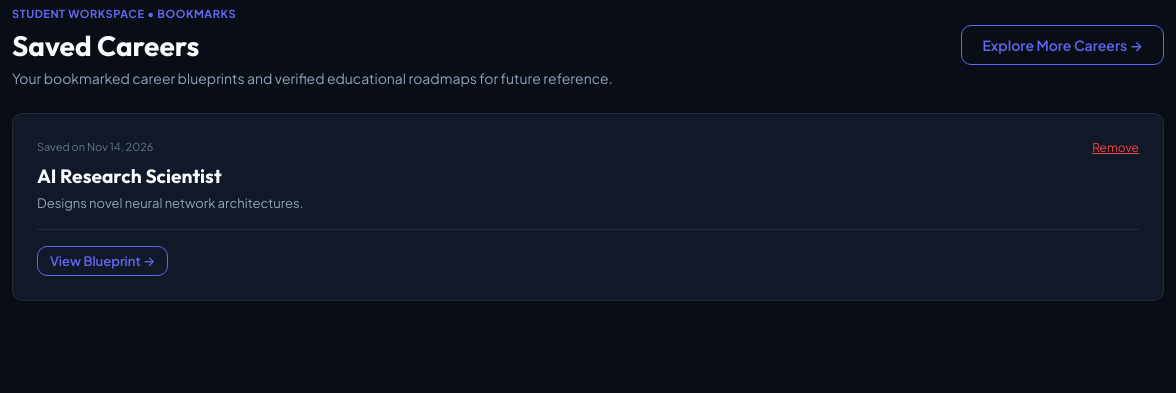
Test: Career Explorer & Details (CareerExplorerPage, CareerDetailPage, SavedCareersPage) › SavedCareersPage › renders saved careers list and optimistically removes bookmark on click
Check: the heading "Saved Careers" is shown, box [12,28,199,63]
Check: the link "AI Research Scientist" is shown, box [37,164,222,188]
Click remove
Click the button with aria-label "Remove AI Research Scientist from saved careers": (1116, 147) [1092,140,1139,155]
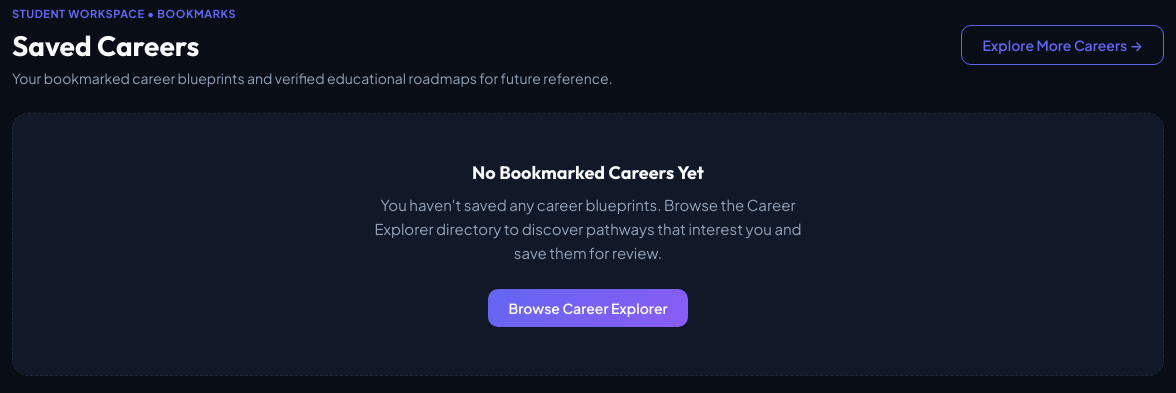
Check: the heading "No Bookmarked Careers Yet" is shown, box [472,162,704,185]
